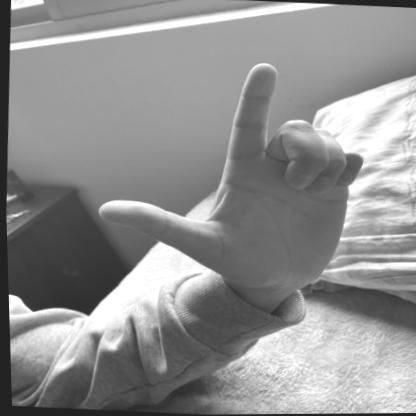L: (88, 48, 376, 296)
